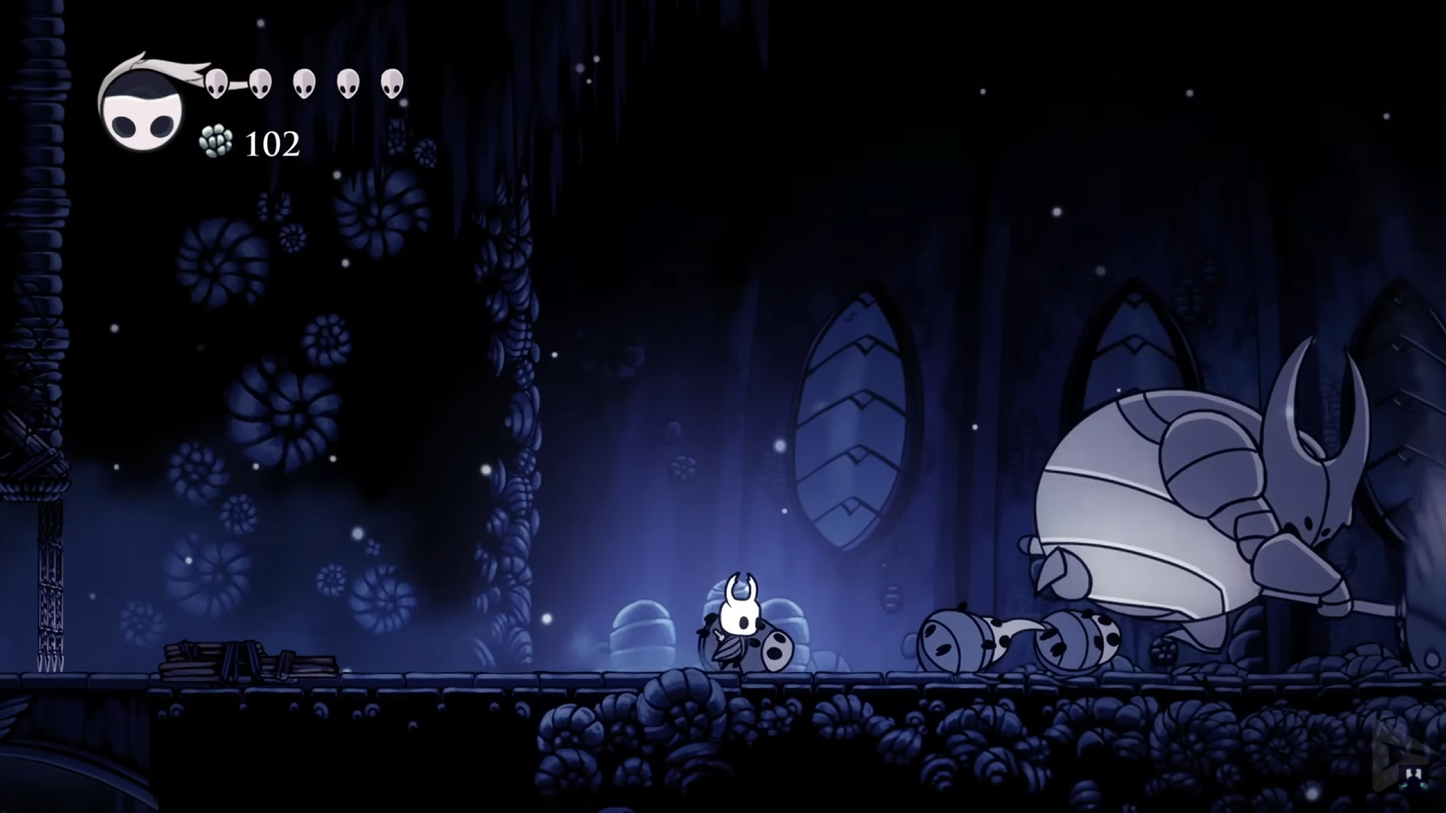HK: (700, 572, 769, 674)
